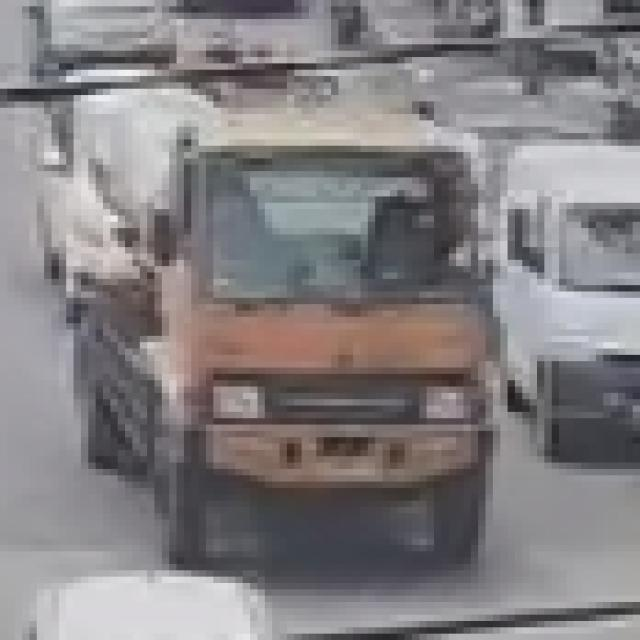Truck: (116, 89, 512, 571)
